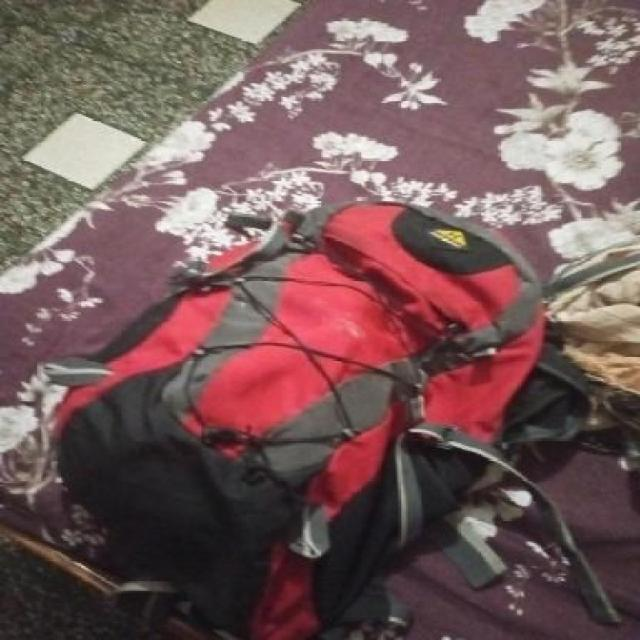backpack: (32, 183, 608, 640)
